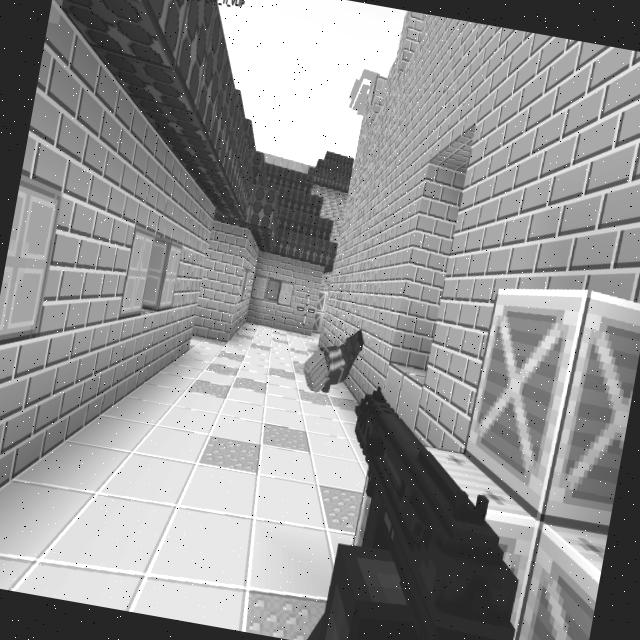Head: (303, 348, 329, 392)
Player: (298, 318, 366, 399)
